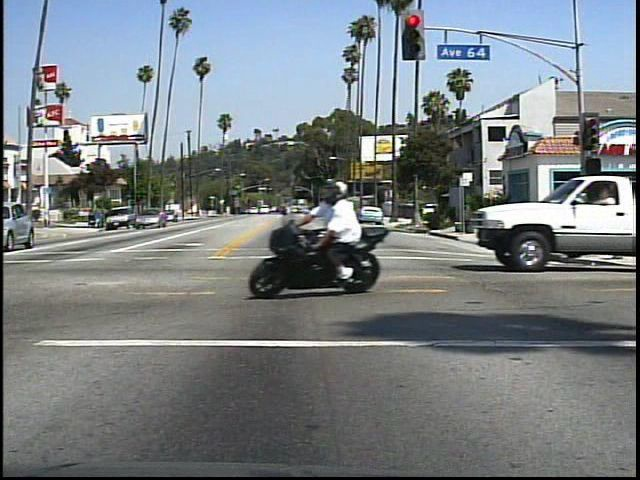person: (307, 175, 383, 287), (544, 192, 573, 245)
